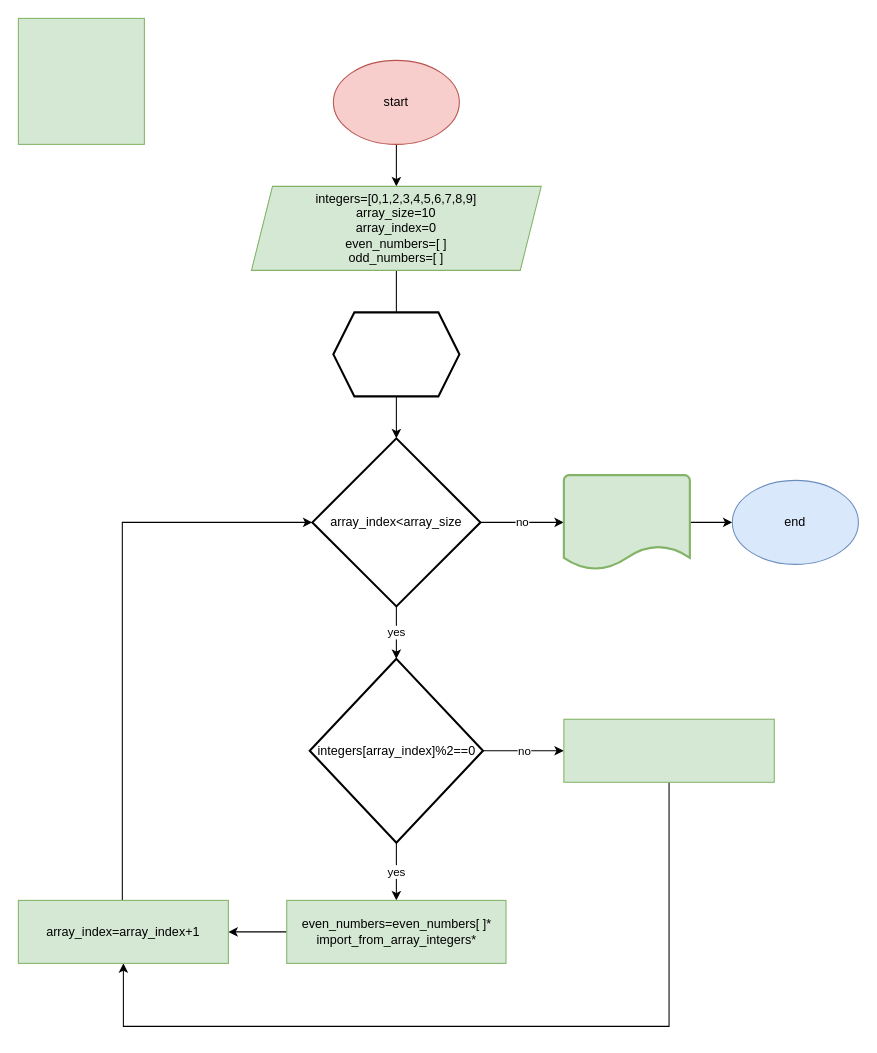
Image size: 877x1053. Some labels were removed from this diagram. The shapes that lost their labels are listed below. From the top down, each one's centre as x and y in pixels, then its label:
the point at 80,80: Нахождение четных и нечетных чисел массива и вынесение их в отдельный массив
the point at 396,354: i=0, n-1,1
the point at 626,522: print even_numbers[ ] odd_numbers[ ]
the point at 668,750: odd_numbers=odd_numbers[ ]* import_from_array_integers*
